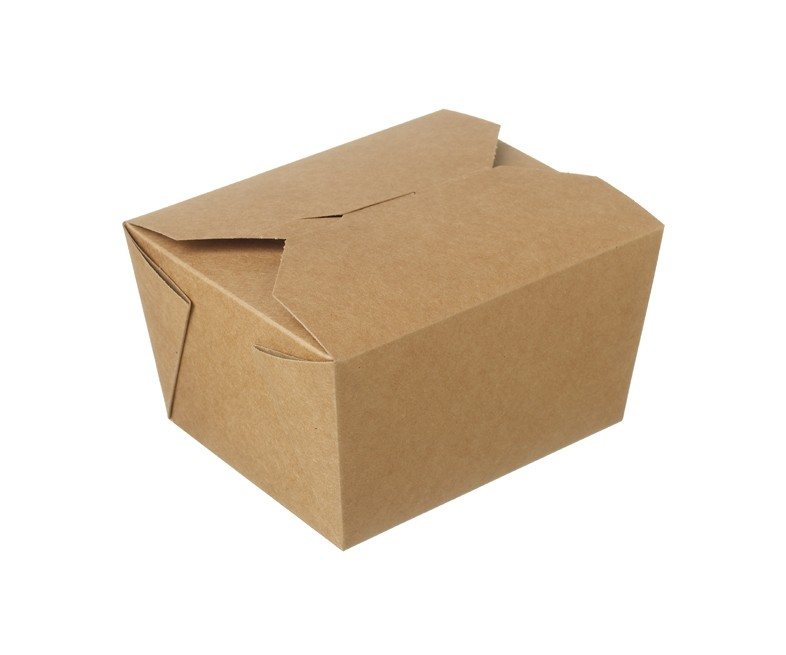Rec_Paper: (105, 88, 675, 554)
